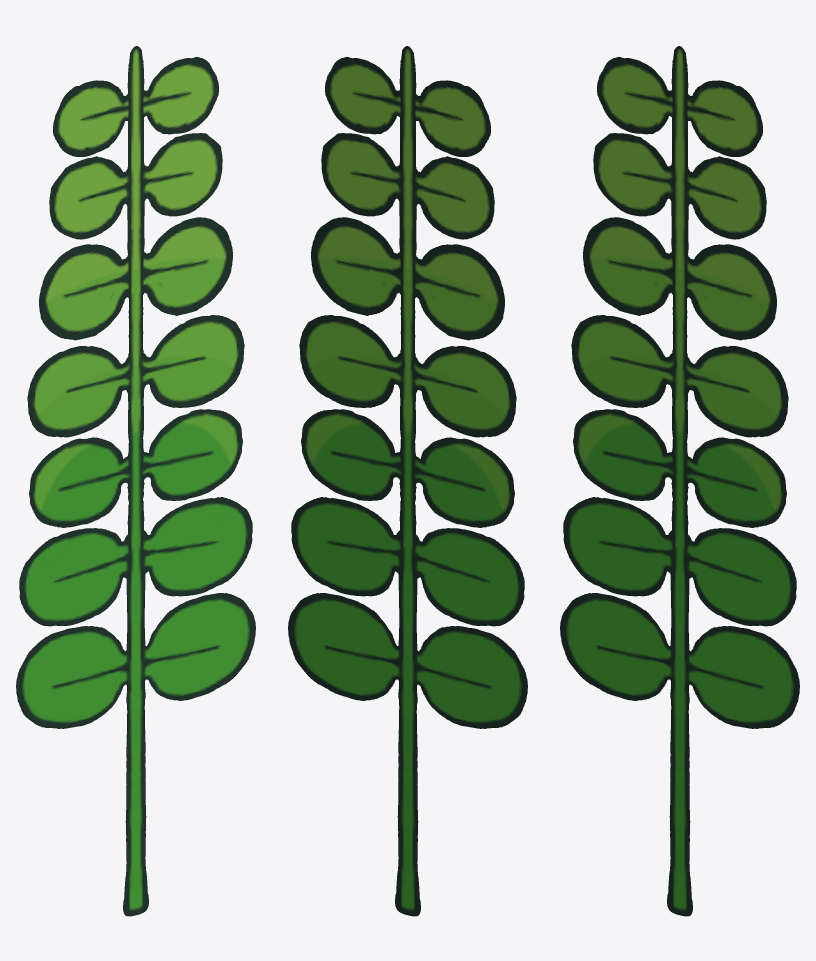
Rendered from HojaE.fbx.
3 views of the same model, side by side, from view 1: azimuth 30°, elevation 25°; view 2: azimuth 150°, elevation 25°; view 3: azimuth 330°, elevation 25° (orthographic).
Parts seen in each view (by area): view 1: HojaE; view 2: HojaE; view 3: HojaE.
Boxes of the visible parts, x1,y1,x2,y2 form: HojaE: [16, 46, 255, 916]; HojaE: [288, 46, 527, 916]; HojaE: [560, 46, 799, 916].
Size of the model in its own units: 0.3696 by 1.26 by 1.62e-08.
